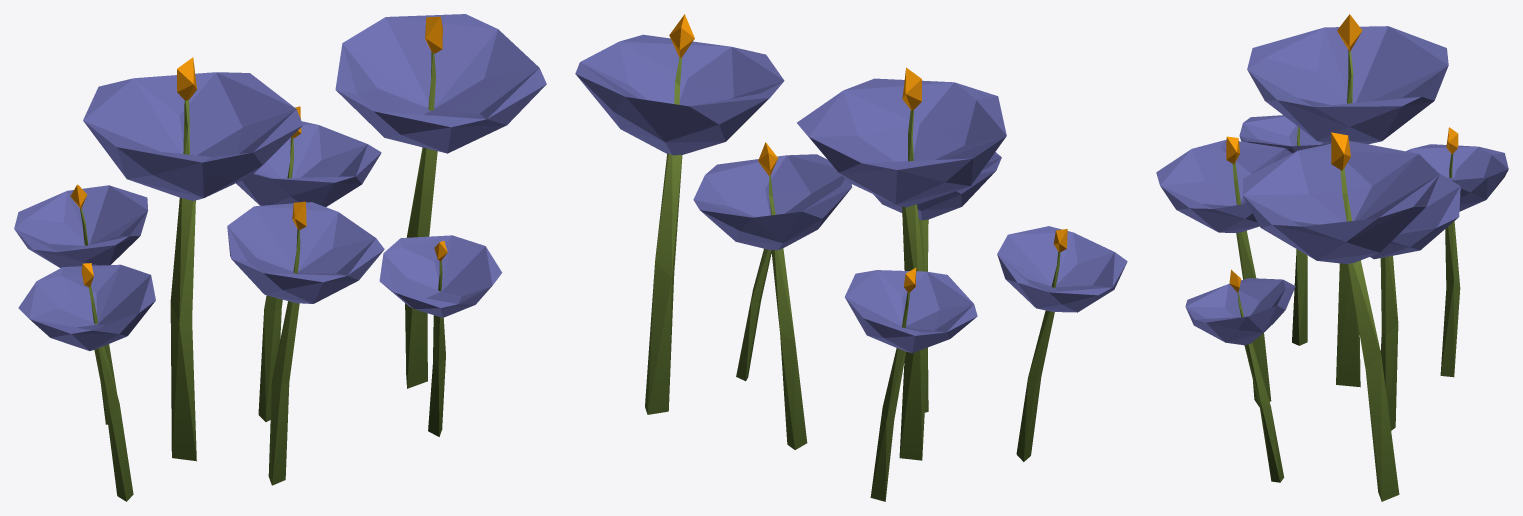
File: Summer_Flower_06.glb
3 views of the same model, side by side, from view 1: azimuth 30°, elevation 25°; view 2: azimuth 150°, elevation 25°; view 3: azimuth 270°, elevation 25° (orthographic). The views are drawn at different scales.
Parts seen in each view (by area): view 1: Summer_Flower_06_LOD0; view 2: Summer_Flower_06_LOD0; view 3: Summer_Flower_06_LOD0.
Boxes of the visible parts, <box> form: Summer_Flower_06_LOD0: <box>14,14,546,501</box>; Summer_Flower_06_LOD0: <box>575,14,1127,501</box>; Summer_Flower_06_LOD0: <box>1156,14,1508,501</box>.
Size of what is drawn, in the model's own units: 0.3741 by 0.2806 by 0.2397.
Materials: 1 (1 with a texture image).
